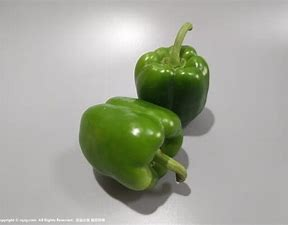fruit_pepper: (76, 95, 189, 193), (133, 20, 211, 130)
